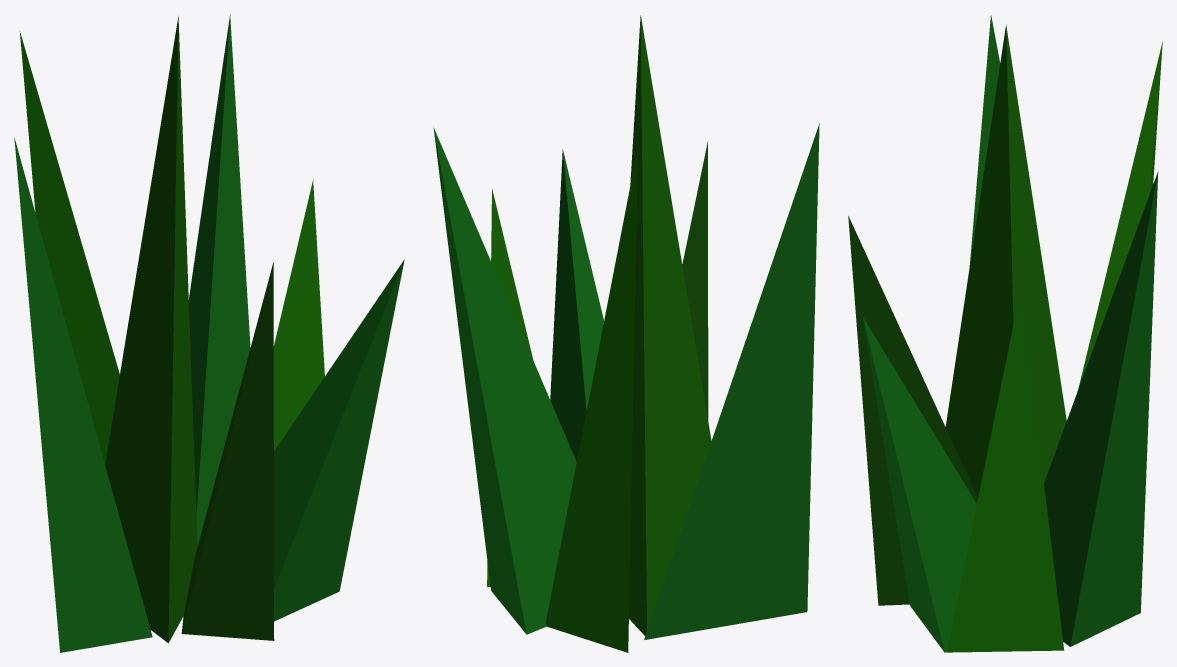
Rendered from grass-4.glb.
The picture shows the model from 3 angles, left to right: view 1: azimuth 30°, elevation 25°; view 2: azimuth 150°, elevation 25°; view 3: azimuth 270°, elevation 25°; orthographic projection. The views are drawn at different scales.
Parts seen in each view (by area): view 1: Grass 4; view 2: Grass 4; view 3: Grass 4.
Part boxes in pixels (x1=…): Grass 4: x1=14, y1=14, x2=404, y2=652; Grass 4: x1=433, y1=15, x2=819, y2=652; Grass 4: x1=848, y1=15, x2=1162, y2=652.
Bounding box in the file's own units: 1.21 × 2.09 × 1.05.
